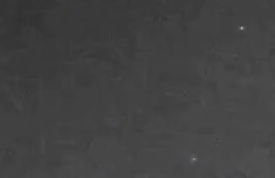Target: (193, 27, 243, 159)
